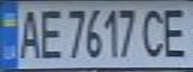1: (100, 4, 121, 58)
6: (84, 6, 106, 58)
7: (118, 4, 142, 58), (63, 4, 84, 60)
A: (12, 4, 45, 61)
C: (139, 4, 172, 58)
E: (157, 3, 193, 60), (33, 4, 63, 61)
